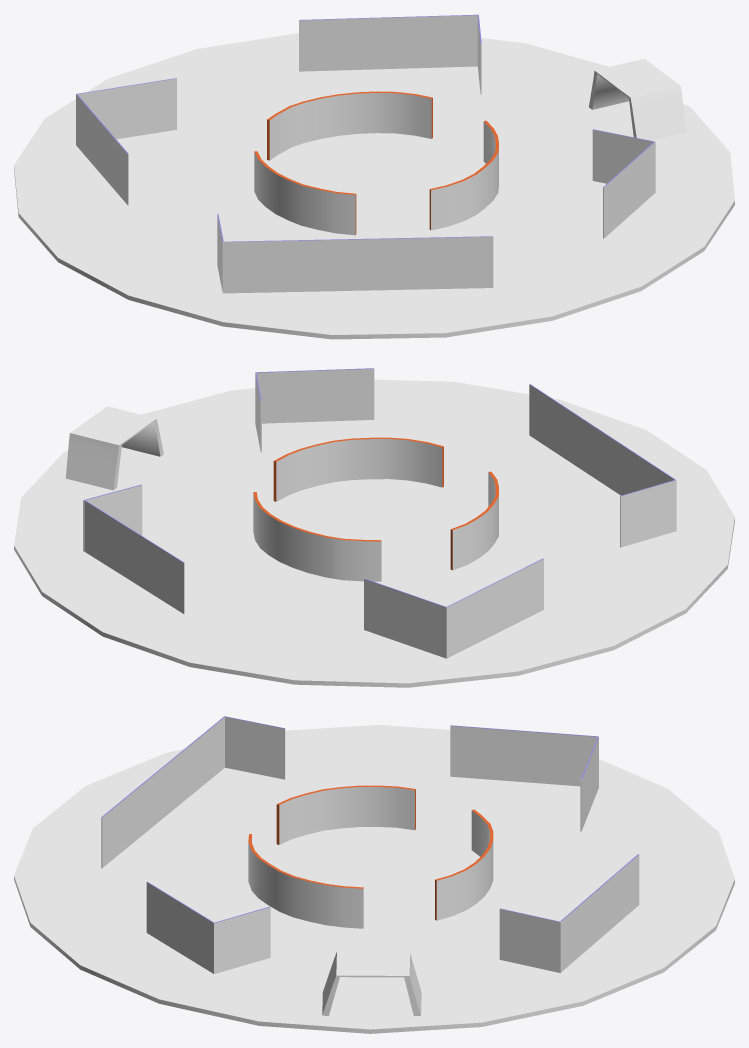
The model's file is sketchwall_bigger.fbx.
The picture shows the model from 3 angles, top to bottom: view 1: azimuth 30°, elevation 25°; view 2: azimuth 150°, elevation 25°; view 3: azimuth 270°, elevation 25°; orthographic projection.
Visible parts, largest first — view 1: polySurface450; view 2: polySurface450; view 3: polySurface450.
Boxes of the visible parts, x1,y1,x2,y2 form: polySurface450: (14,14,734,339); polySurface450: (14,368,734,687); polySurface450: (14,716,734,1033).
Bounding box in the file's own units: 8011 × 678 × 8011.
Materials: 1 (1 with a texture image).
